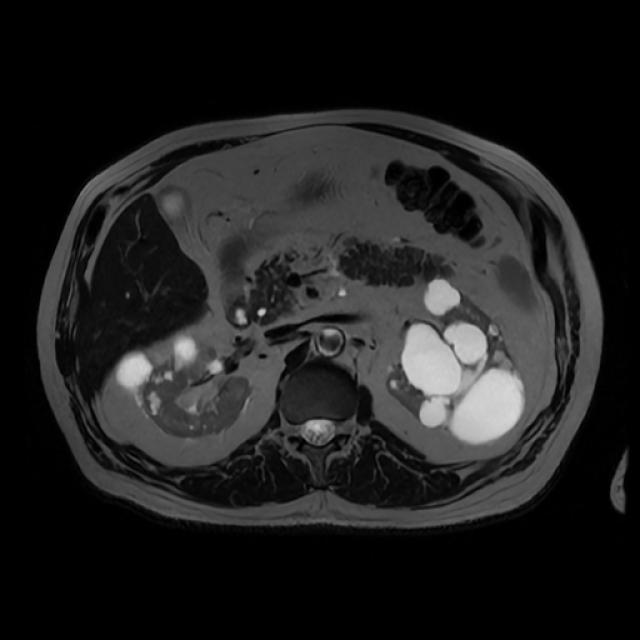sag: (113, 333, 251, 438)
sol: (385, 277, 528, 444)
